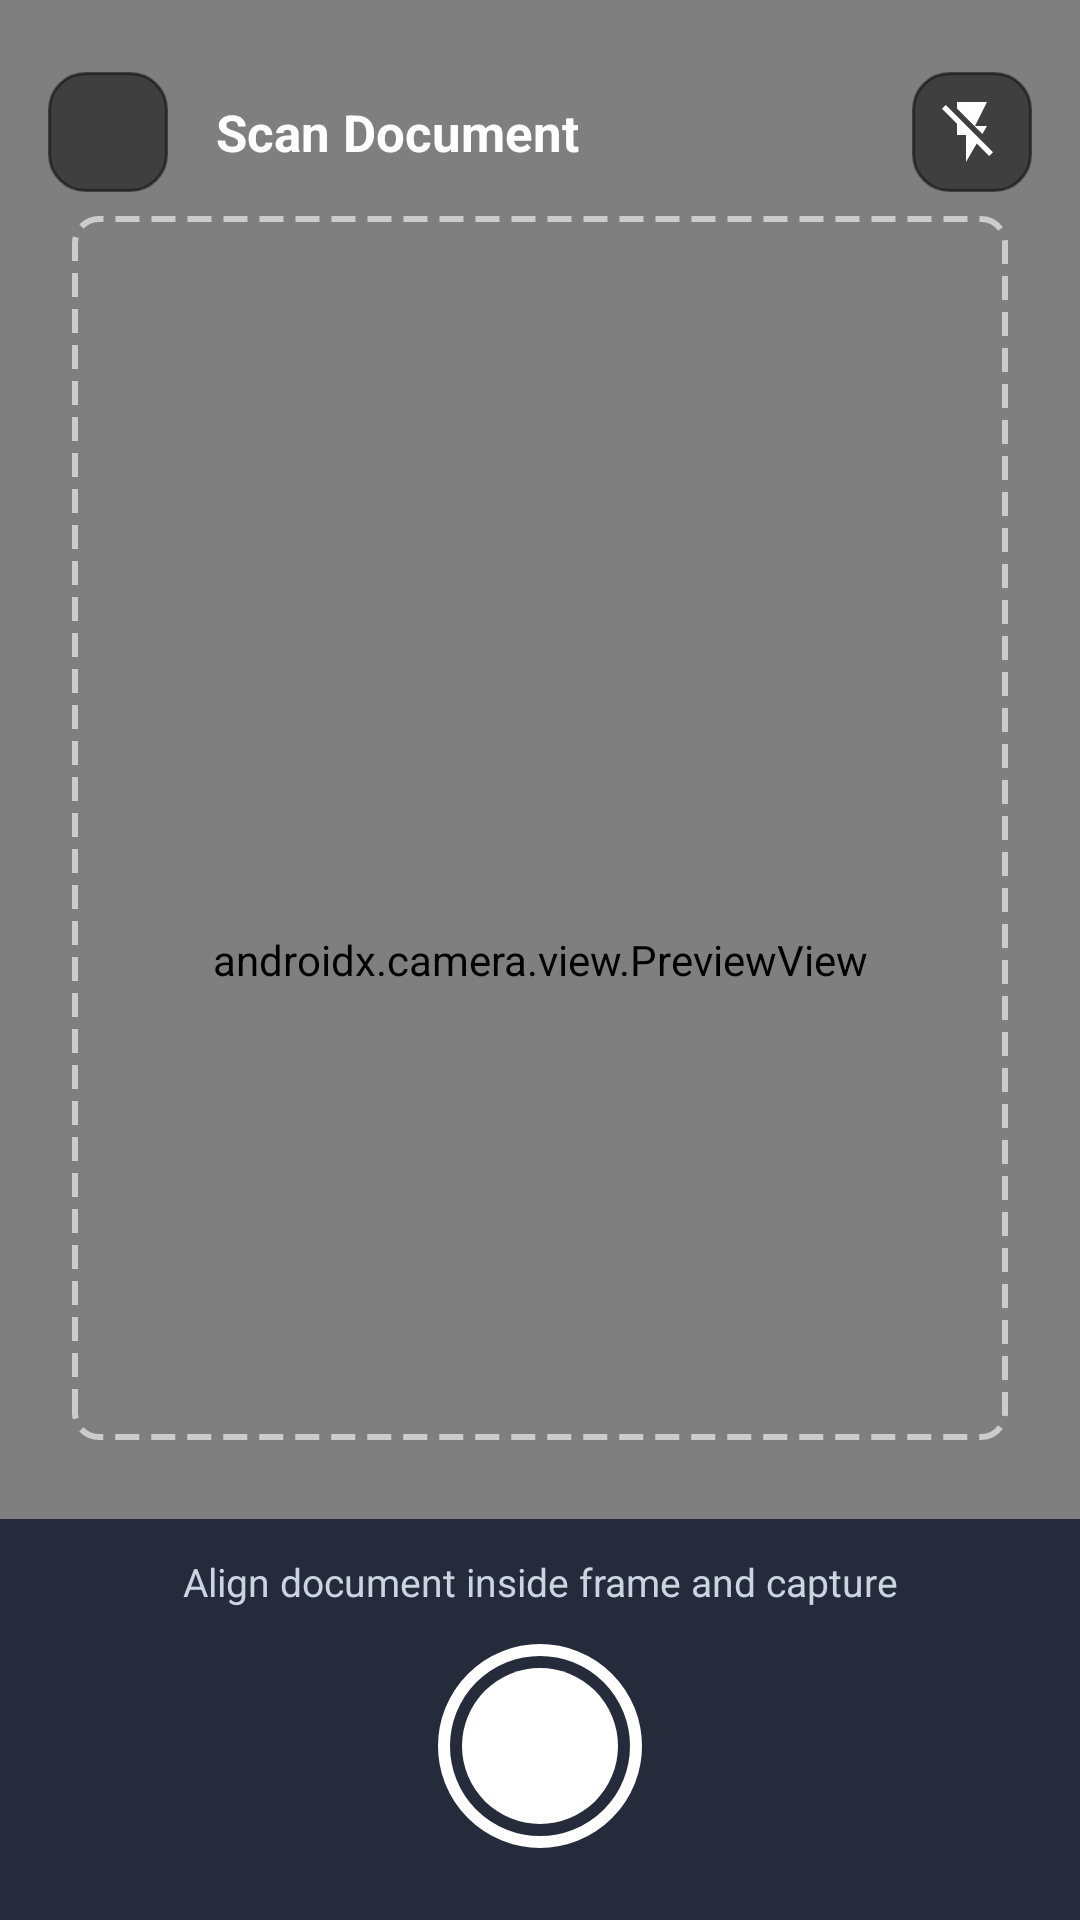

Icon click points for this 1080 × 1920 phone screenshot, format point (x, y):
Flash: point (972, 132)
